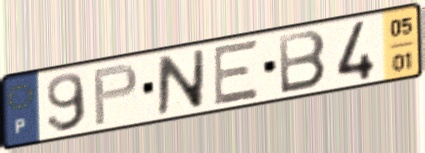4: (334, 18, 379, 83)
9: (44, 71, 89, 134)
B: (276, 28, 329, 97)
E: (212, 37, 261, 108)
N: (155, 47, 208, 118)
P: (91, 61, 141, 129)
